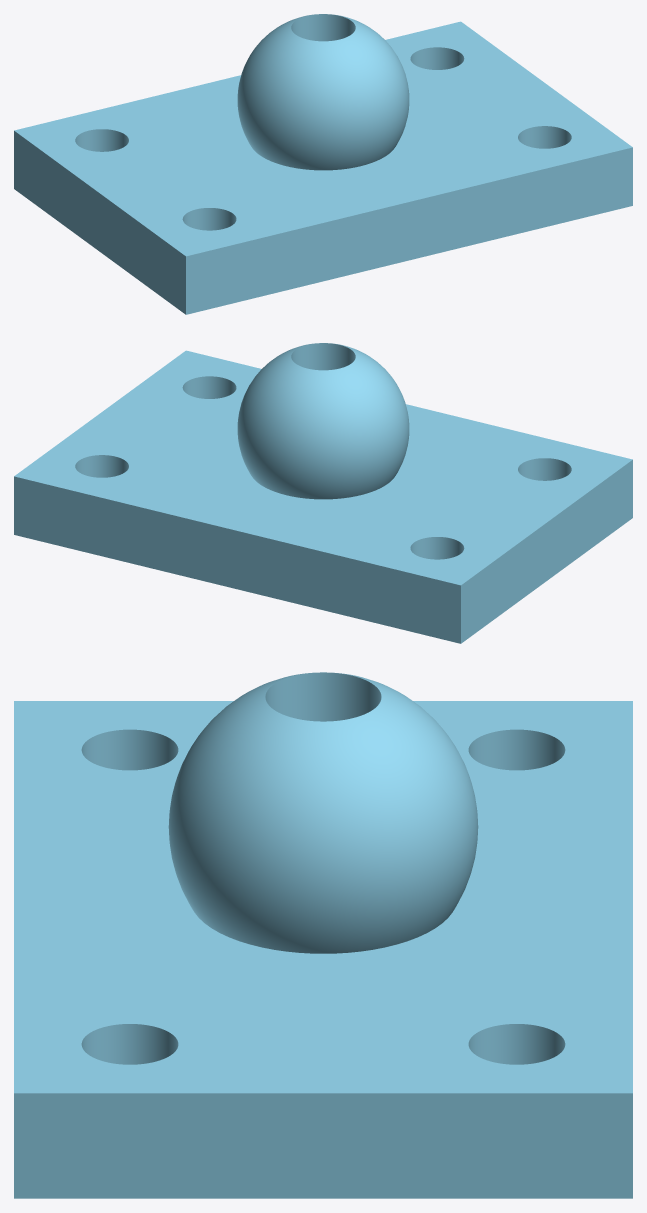
File: boolean_mount_chord_0p02_angle_7p5.glb
3 renders of one model, top to bottom at view 1: azimuth 30°, elevation 25°; view 2: azimuth 150°, elevation 25°; view 3: azimuth 270°, elevation 25°, orthographic. The views are drawn at different scales.
Parts seen in each view (by area): view 1: boolean_mount; view 2: boolean_mount; view 3: boolean_mount.
Boxes of the visible parts, left/top/right/bottom form: boolean_mount: left=14, top=14, right=632, bottom=314; boolean_mount: left=14, top=343, right=632, bottom=643; boolean_mount: left=14, top=672, right=632, bottom=1198.
Size of the model in its own units: 48 by 17.42 by 32.
